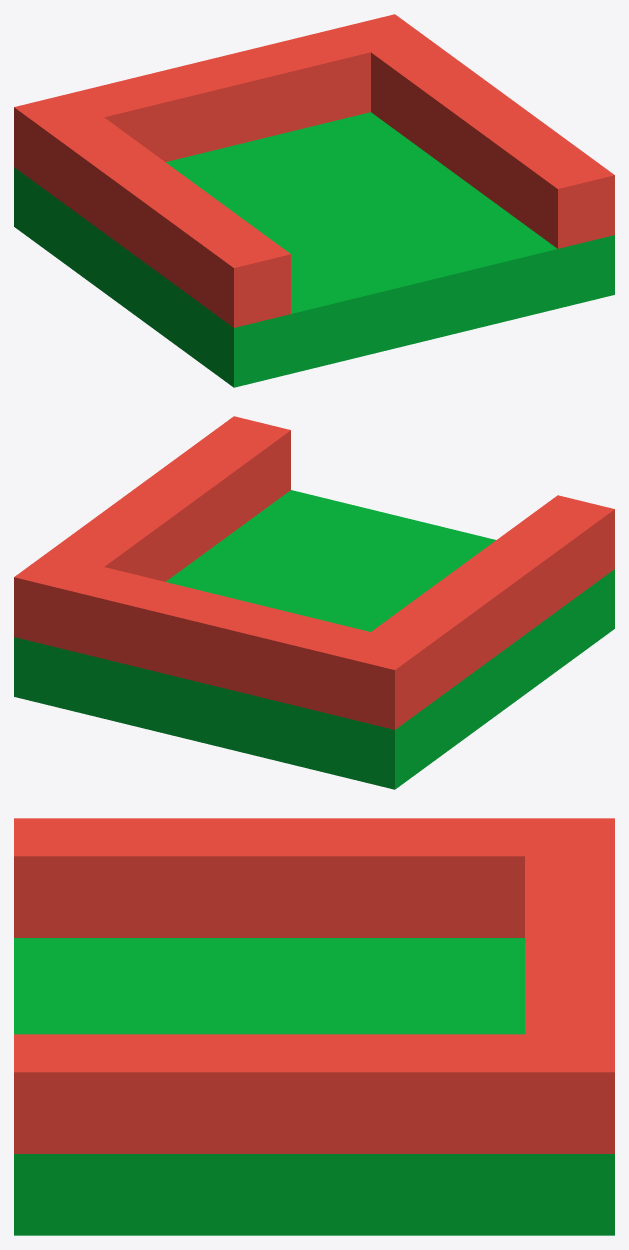
The model's file is end.fbx.
3 renders of one model, top to bottom at view 1: azimuth 30°, elevation 25°; view 2: azimuth 150°, elevation 25°; view 3: azimuth 270°, elevation 25°, orthographic. The views are drawn at different scales.
Parts seen in each view (by area): view 1: green_straight_single_edge, Cube, Cube.001, Cube.002; view 2: green_straight_single_edge, Cube.001, Cube, Cube.002; view 3: green_straight_single_edge, Cube.002, Cube, Cube.001.
Part boxes in pixels (x1=…): green_straight_single_edge: x1=14, y1=112, x2=614, y2=387; Cube: x1=14, y1=108, x2=290, y2=327; Cube.001: x1=14, y1=14, x2=427, y2=161; Cube.002: x1=371, y1=38, x2=614, y2=248; green_straight_single_edge: x1=14, y1=490, x2=614, y2=789; Cube.001: x1=14, y1=553, x2=427, y2=729; Cube: x1=338, y1=495, x2=614, y2=729; Cube.002: x1=14, y1=416, x2=290, y2=645; green_straight_single_edge: x1=14, y1=938, x2=614, y2=1235; Cube.002: x1=14, y1=1034, x2=614, y2=1153; Cube: x1=14, y1=818, x2=524, y2=937; Cube.001: x1=525, y1=818, x2=614, y2=1153.
Size of the model in its own units: 200 by 60 by 200.
